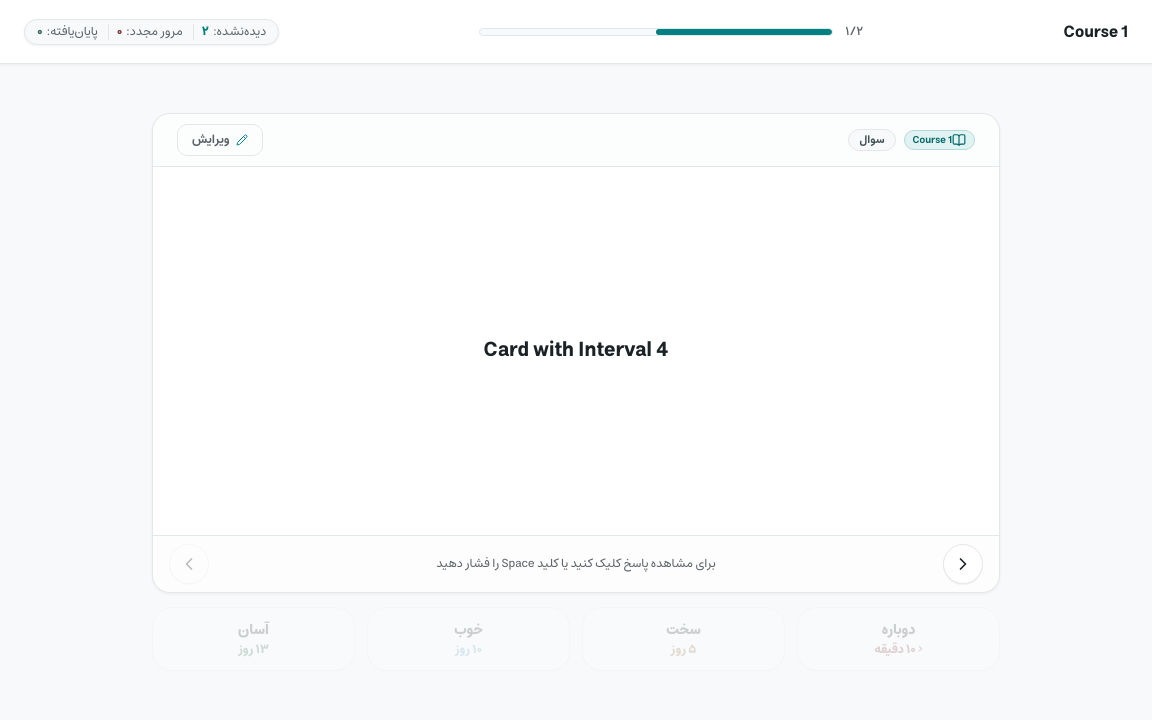
Flashcard Experience Flow › Test D & E: loads study session with reviewed card (interval: 4), displays derived intervals (Hard: 5d, Good: 10d, Easy: 13d), submits Hard successfully and adv
Note: Flip card
Click the text "Card with Interval 4".
click(576, 350)  # box [484,333,668,368]
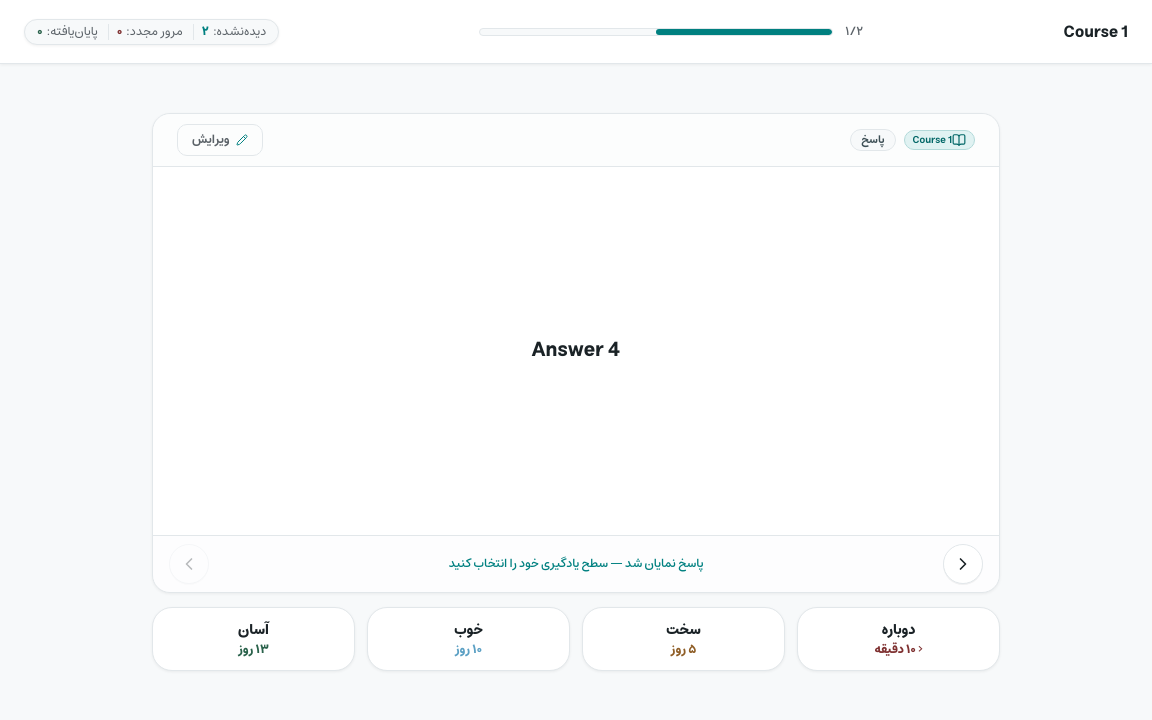
Expected: the text "< ۱۰ دقیقه" is shown, [874,642,923,658]
Result: the text "Answer 4" is shown at [532,333,620,368]
Note: Test E: Click Hard
Click the text "سخت".
click(684, 630)  # box [666,620,701,640]
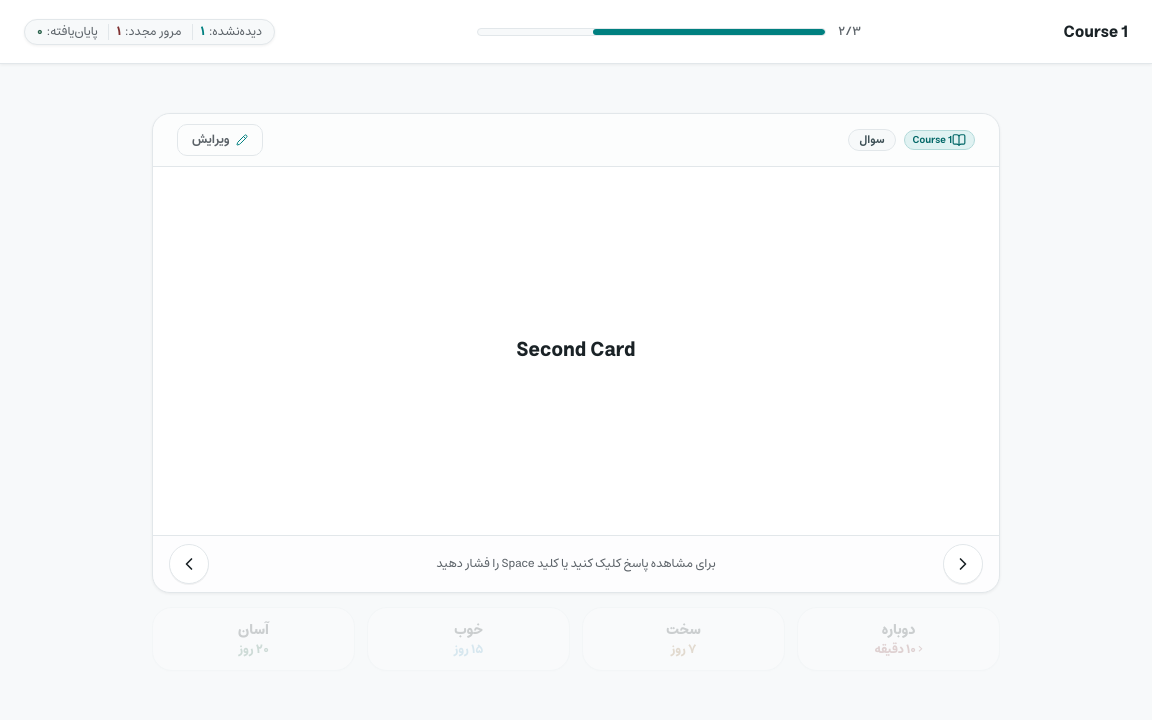
Result: the text "Second Card" is shown at [516,333,636,368]
